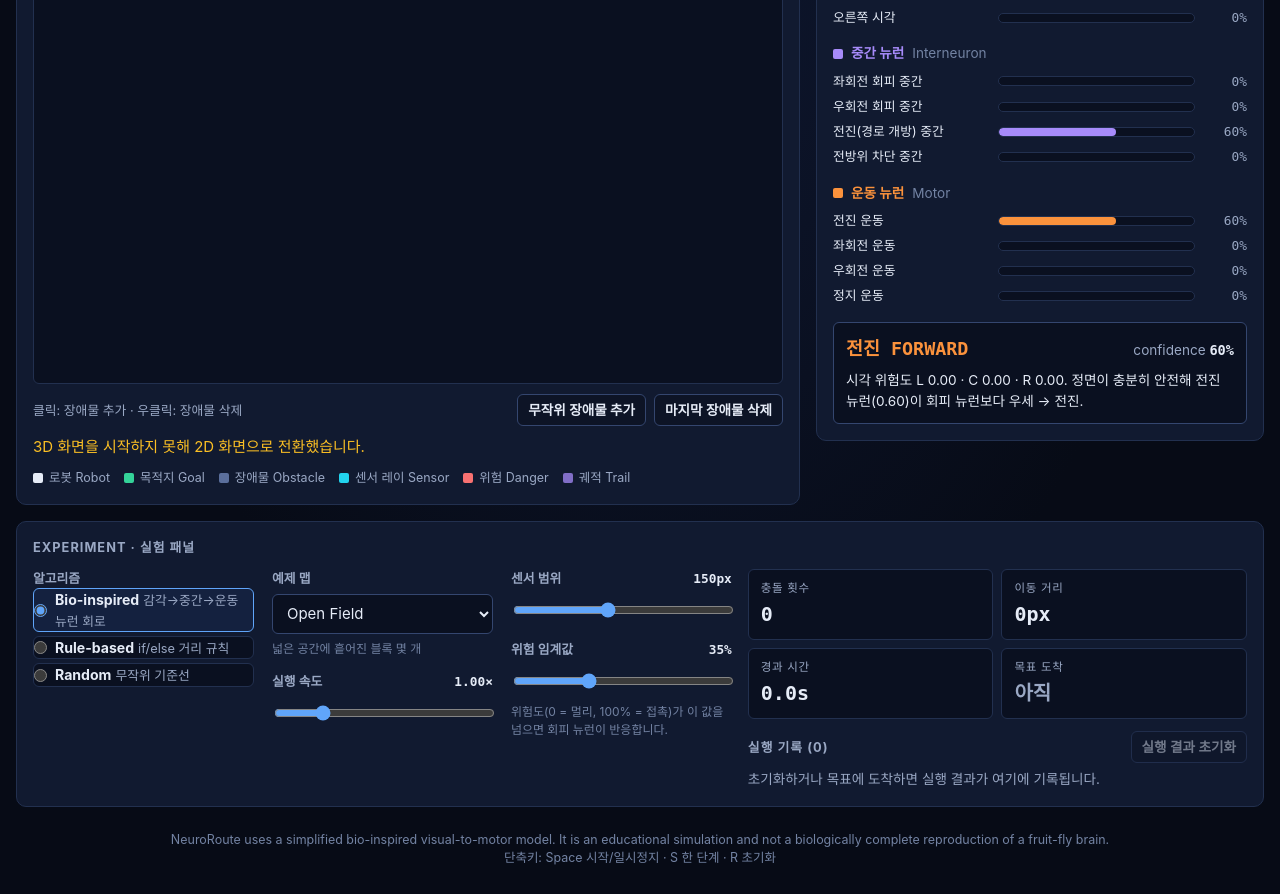
it: App › switches between the three algorithms
The image size is (1280, 894).
(page scrolled)
Expected: the element named "좌회전 회피 중간 활성도" is shown, [998,76,1195,86]
Click the radio button labelled "Rule-based if/else 거리 규칙".
click(40, 648)  # box [34,641,47,654]
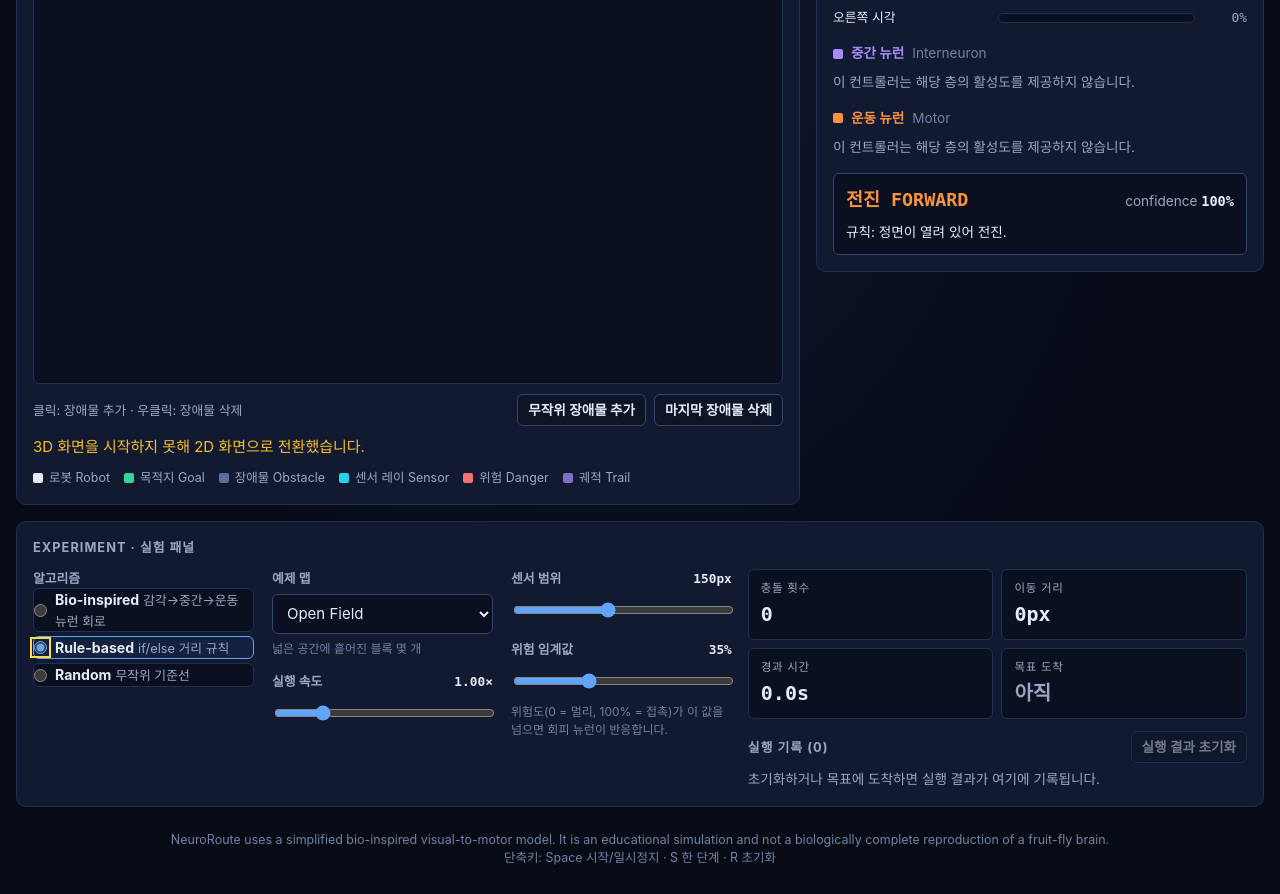
Expected: the radio button labelled "Rule-based if/else 거리 규칙" is checked, [34,641,47,654]
Click the radio button labelled "Random 무작위 기준선".
click(40, 675)  # box [34,668,47,682]
(page scrolled)
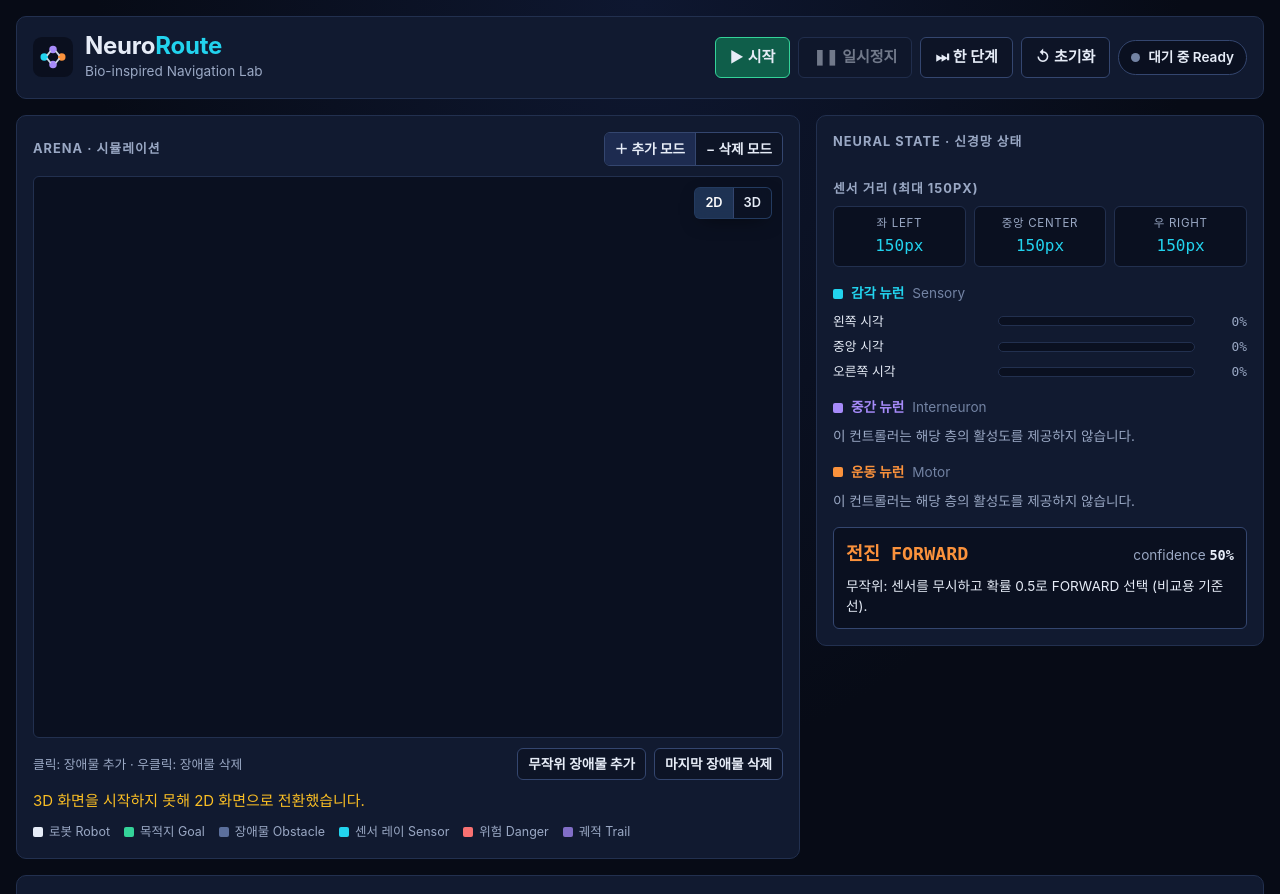
Click the button "⏭ 한 단계".
click(967, 57)  # box [920,37,1013,78]
(page scrolled)
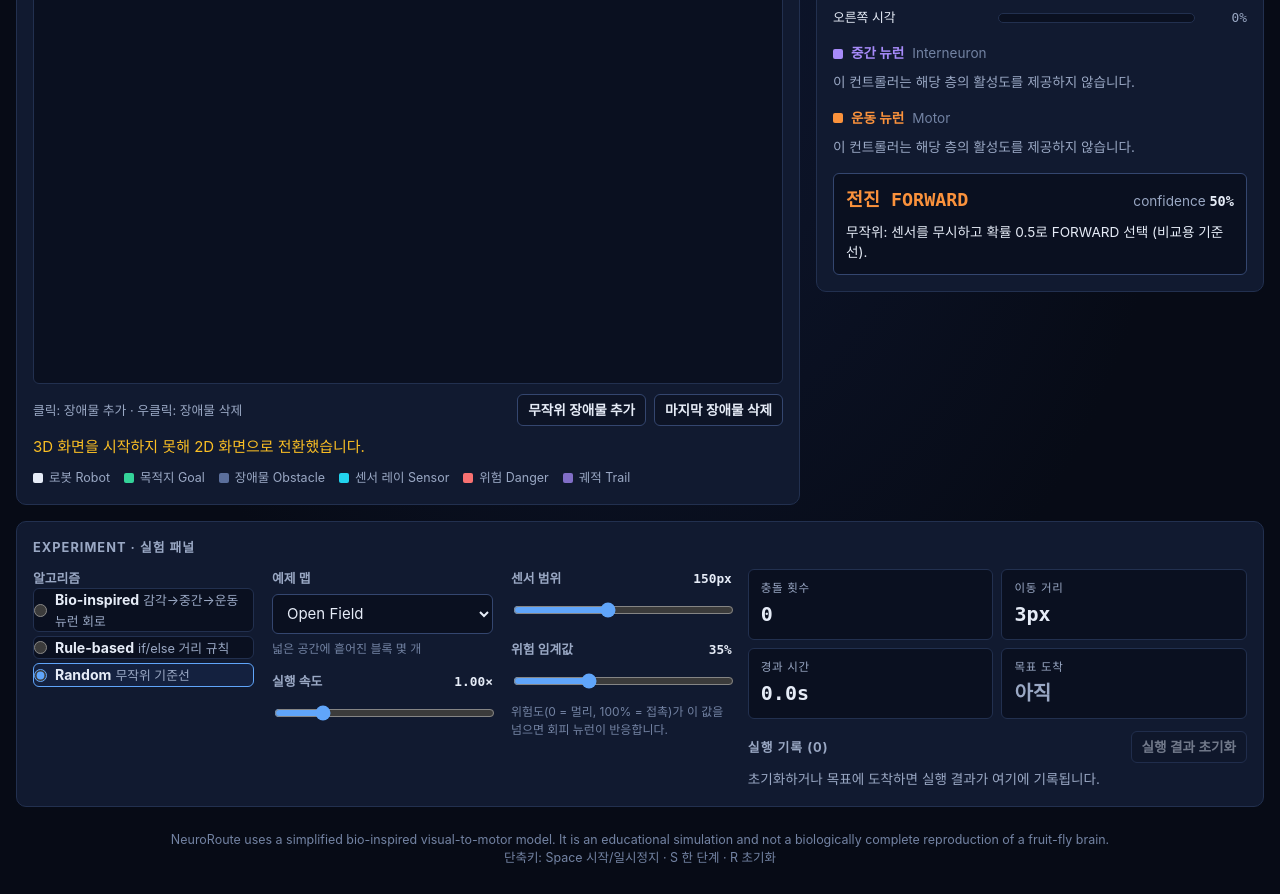
Expected: the text "confidence 50%" is shown, [1133,191,1234,211]
Click the radio button labelled "Bio-inspired 감각→중간→운동 뉴런 회로".
click(40, 610)  # box [34,604,47,617]
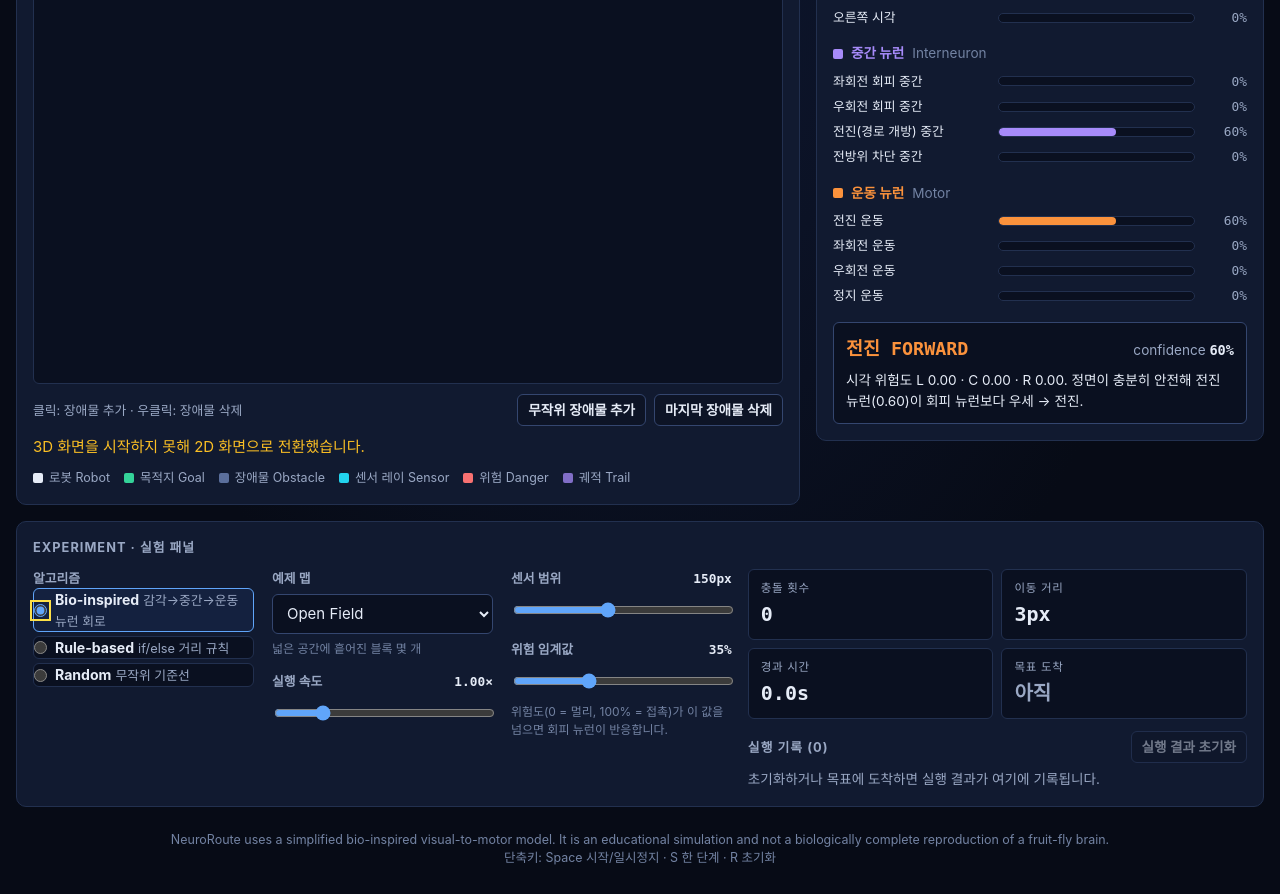
Expected: the element named "좌회전 회피 중간 활성도" is shown, [998,76,1195,86]
